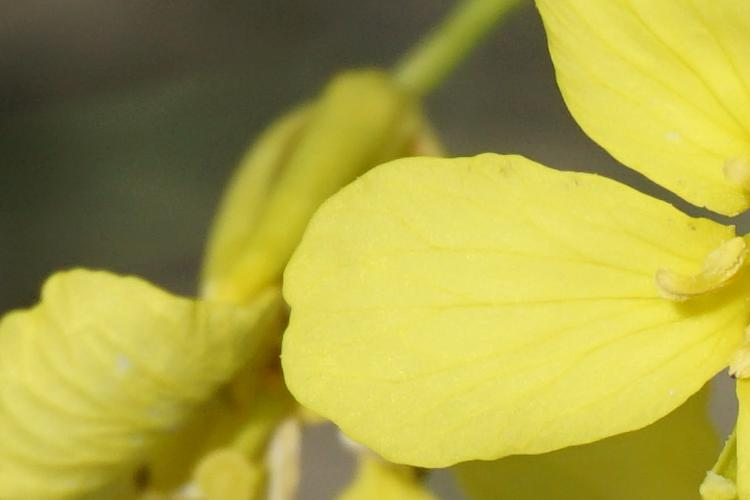yellow: (332, 77, 750, 475), (44, 95, 418, 476)
